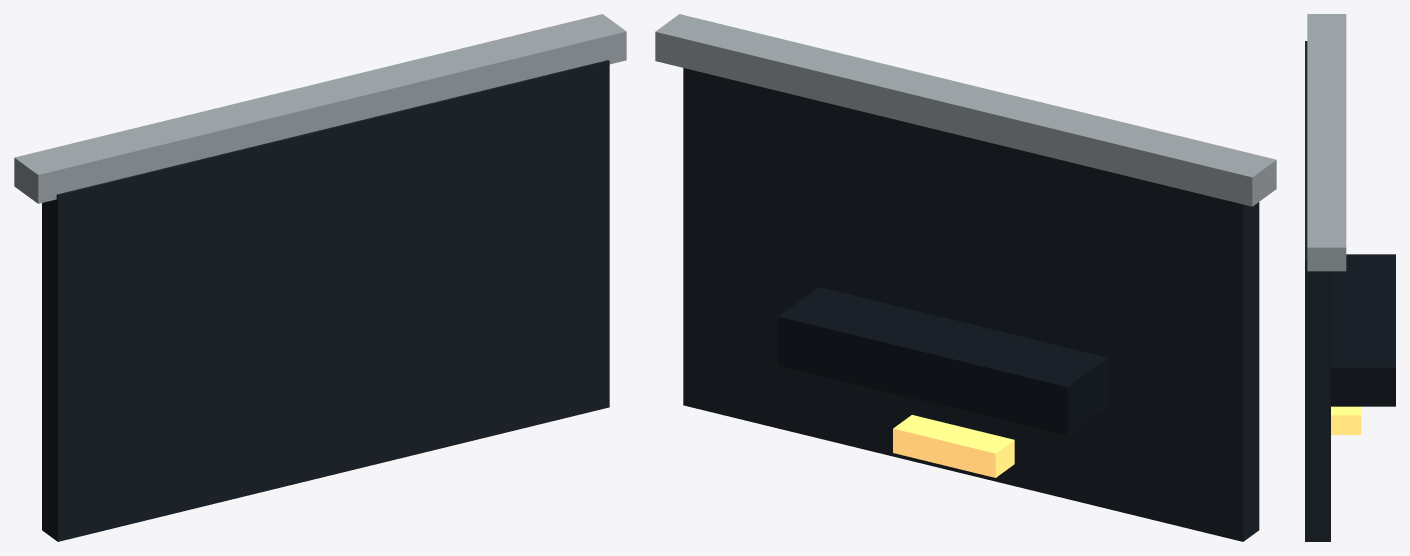
Rendered from np_z05_presentation_murale.glb.
3 renders of one model, left to right at view 1: azimuth 30°, elevation 25°; view 2: azimuth 150°, elevation 25°; view 3: azimuth 270°, elevation 25°, orthographic. The views are drawn at different scales.
Parts seen in each view (by area): view 1: Panneau, Contour; view 2: Panneau, Contour, Support, EtatDisponible; view 3: Contour, Support, Panneau, EtatDisponible.
Part boxes in pixels (x1=…): Panneau: x1=42, y1=60, x2=609, y2=541; Contour: x1=14, y1=14, x2=626, y2=203; Panneau: x1=683, y1=68, x2=1259, y2=541; Contour: x1=655, y1=14, x2=1276, y2=206; Support: x1=778, y1=287, x2=1107, y2=435; EtatDisponible: x1=893, y1=415, x2=1014, y2=477; Contour: x1=1307, y1=14, x2=1346, y2=271; Support: x1=1331, y1=254, x2=1395, y2=406; Panneau: x1=1305, y1=41, x2=1330, y2=541; EtatDisponible: x1=1331, y1=406, x2=1361, y2=434.
Size of the model in its own units: 1.28 by 0.77 by 0.21.
